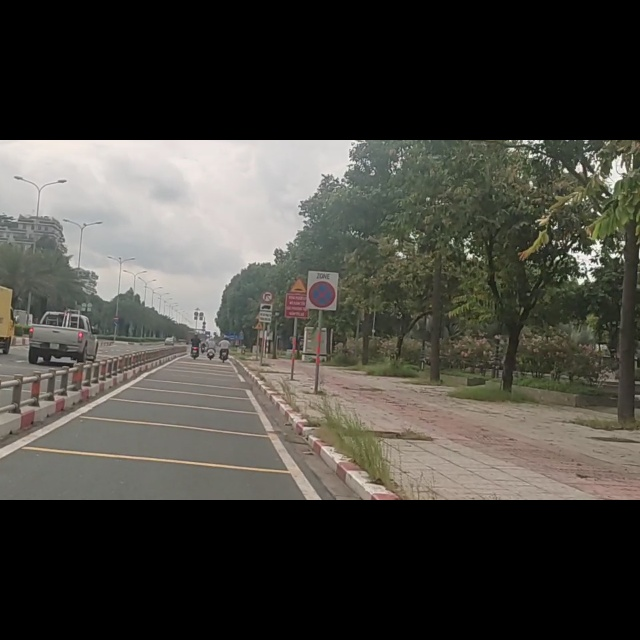bien_cam: (307, 232, 337, 306), (289, 243, 307, 273), (259, 290, 272, 325), (261, 268, 273, 290)
